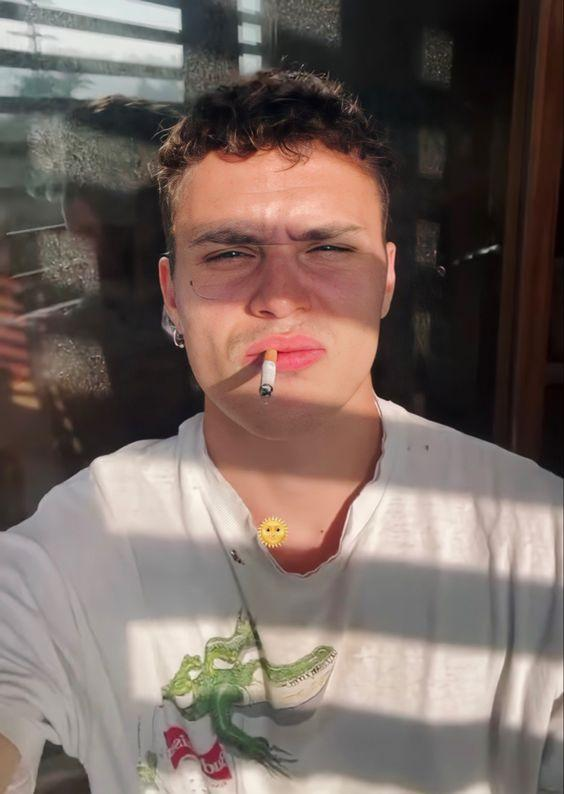cigarette: (259, 349, 277, 399)
